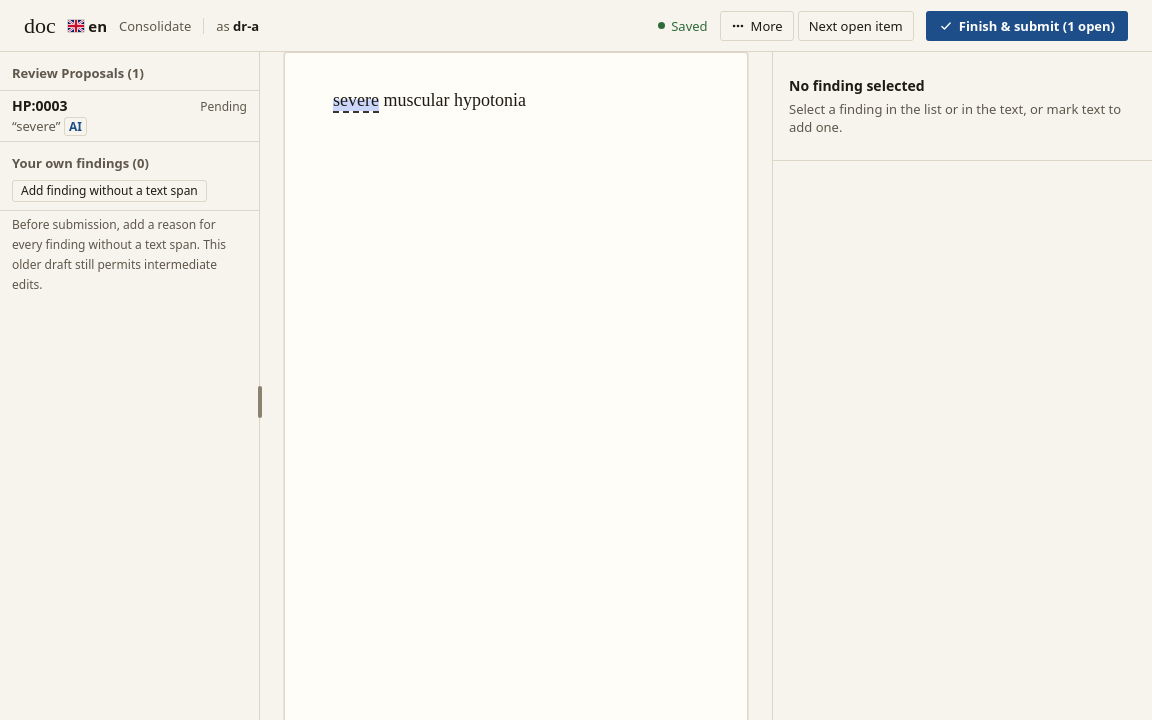
Scenario: resizing mentions in the case screen › shows no handles for a selected review proposal
Click the button "HP:0003 Pending “severe” AI".
click(130, 117)  # box [0,91,259,142]
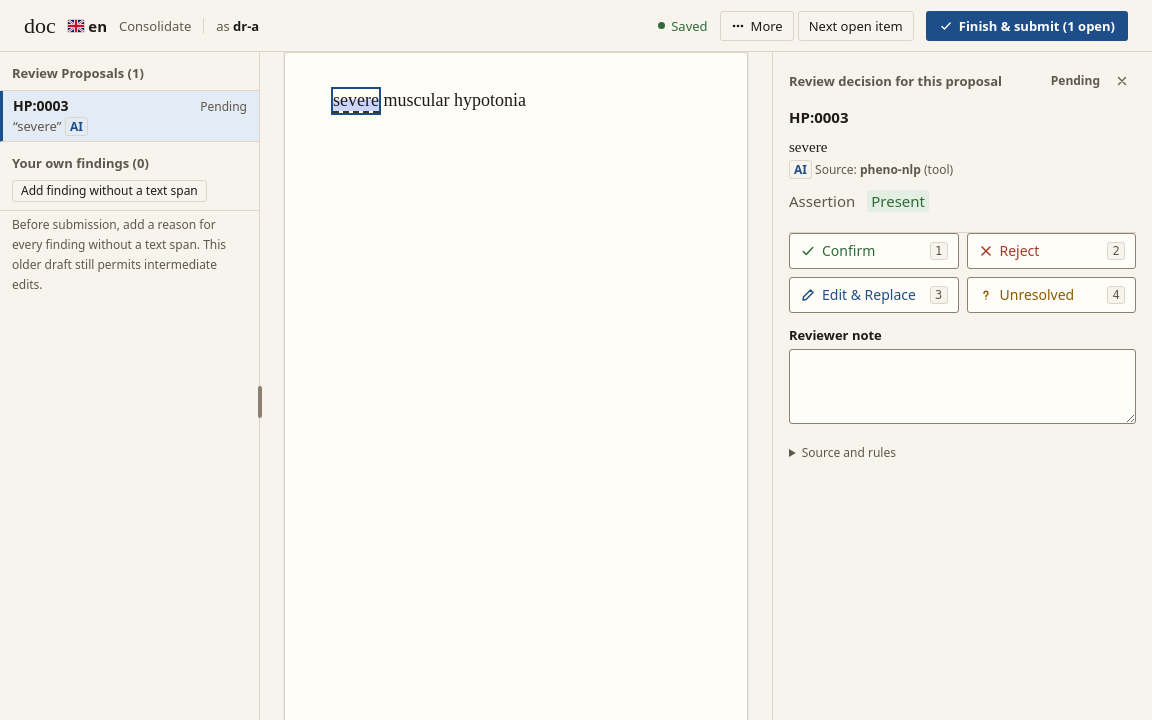
Check: the text with class "run--hot" is shown, box [333,89,379,113]
